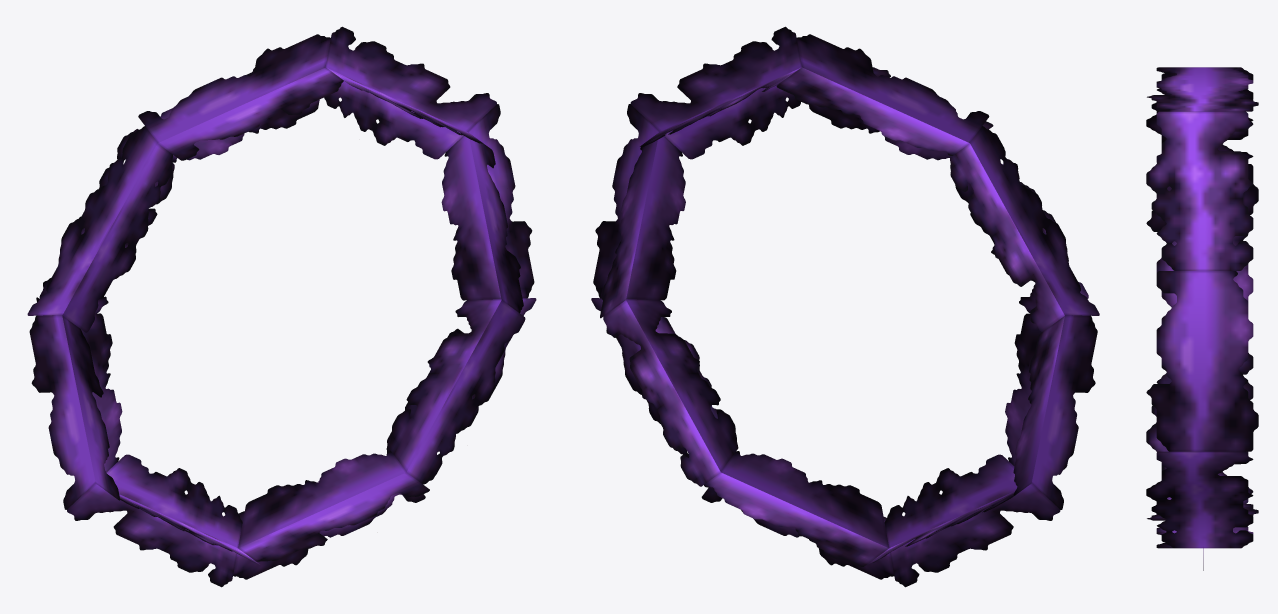
3 renders of one model, left to right at view 1: azimuth 30°, elevation 25°; view 2: azimuth 150°, elevation 25°; view 3: azimuth 270°, elevation 25°, orthographic. The views are drawn at different scales.
Parts seen in each view (by area): view 1: T1L9M003_26; view 2: T1L9M003_26; view 3: T1L9M003_26.
Part boxes in pixels (x1=…): T1L9M003_26: x1=27, y1=26, x2=536, y2=587; T1L9M003_26: x1=591, y1=26, x2=1099, y2=587; T1L9M003_26: x1=1146, y1=67, x2=1258, y2=570.
Size of the model in its own units: 2.83 by 2.83 by 0.5957.
